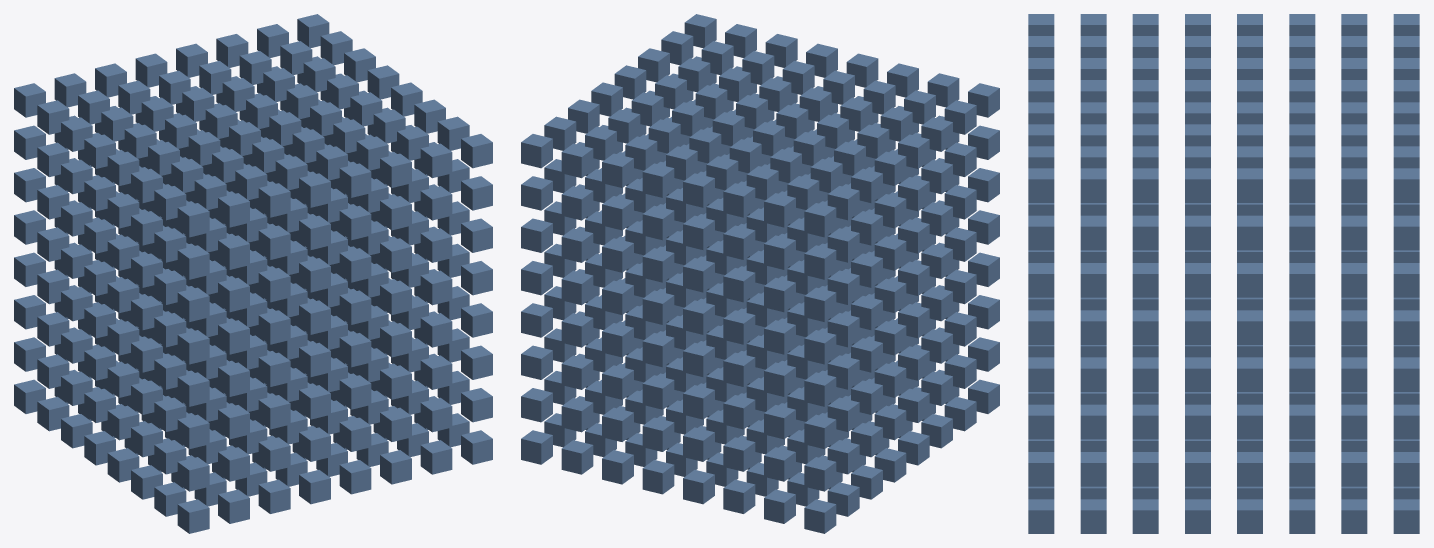
The model's file is cubes.glb.
The picture shows the model from 3 angles, left to right: view 1: azimuth 30°, elevation 25°; view 2: azimuth 150°, elevation 25°; view 3: azimuth 270°, elevation 25°; orthographic projection. The views are drawn at different scales.
Visible parts, largest first — view 1: shape-cube.003; view 2: shape-cube.003; view 3: shape-cube.003.
Part boxes in pixels (box(x1,y1,x2,y2)): shape-cube.003: box(14, 14, 492, 533); shape-cube.003: box(521, 14, 999, 533); shape-cube.003: box(1028, 14, 1419, 533).
Size of the model in its own units: 2 by 2 by 2.
